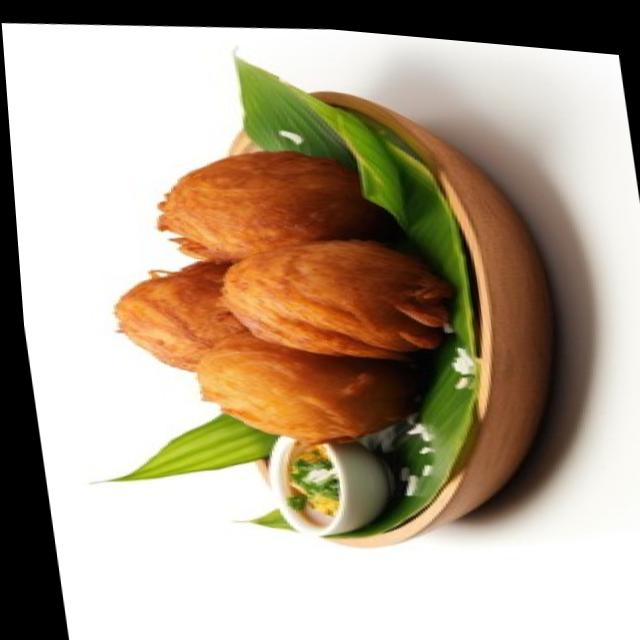BONDA: (73, 130, 457, 455)
SAMBAR: (265, 443, 378, 529)
